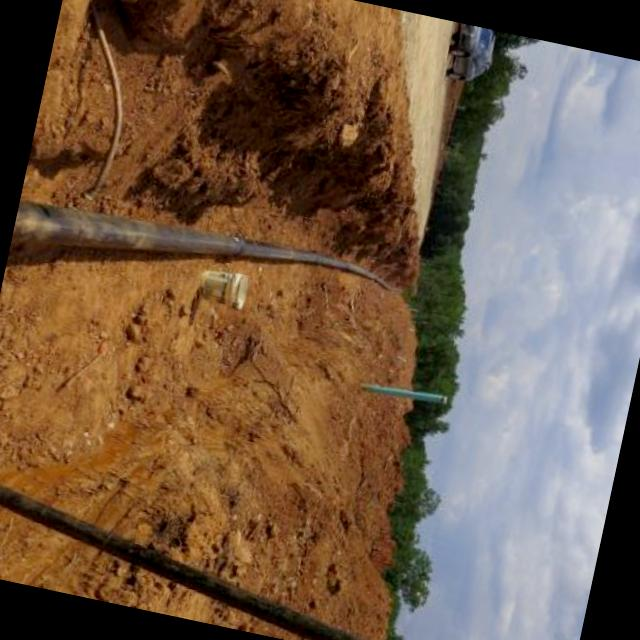gas: (11, 199, 388, 287)
